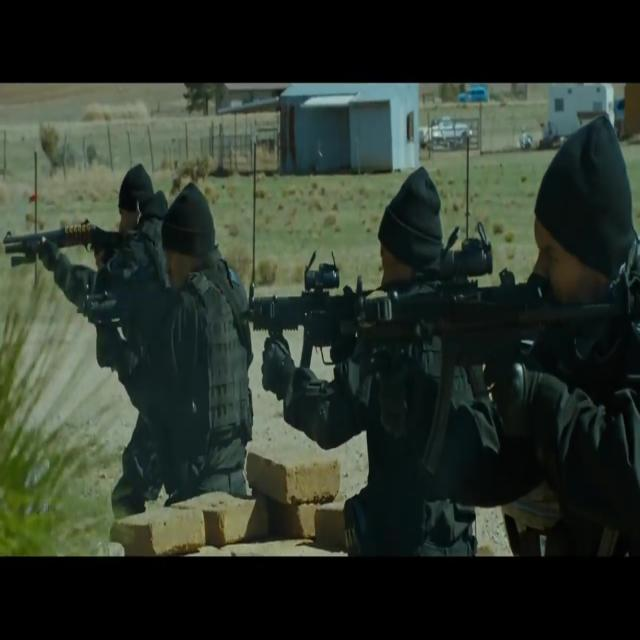Weapon: (336, 183, 640, 490), (227, 249, 403, 402), (0, 214, 148, 299), (69, 271, 147, 364), (124, 423, 168, 503)
